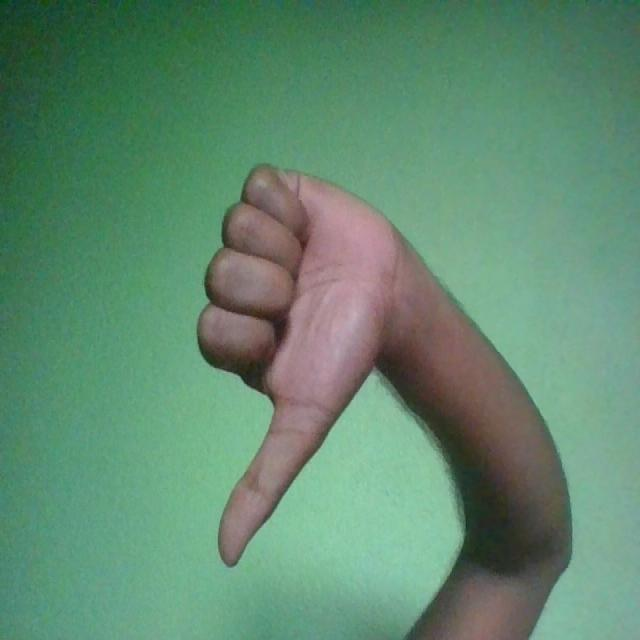Dislike: (195, 157, 401, 569)
